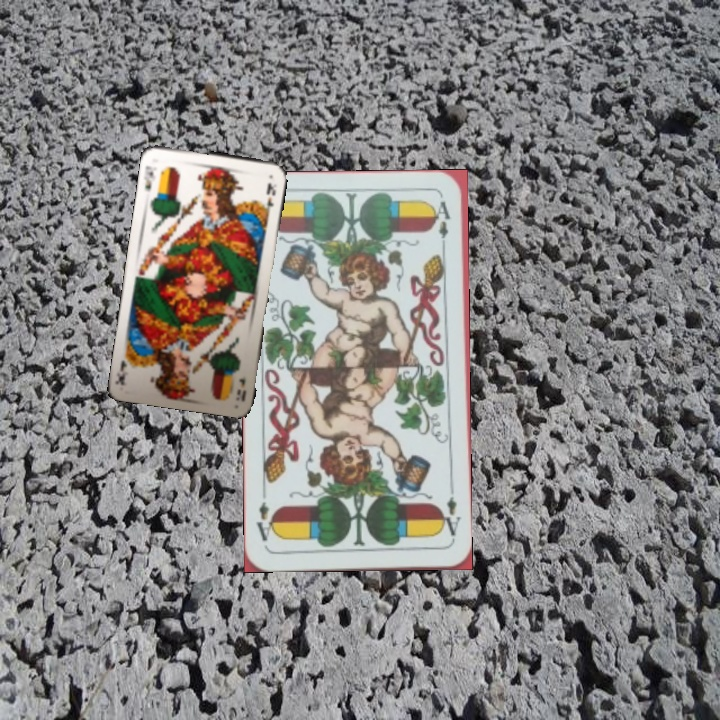EA: (436, 492, 463, 543)
EK: (140, 162, 159, 194), (232, 374, 248, 402)
